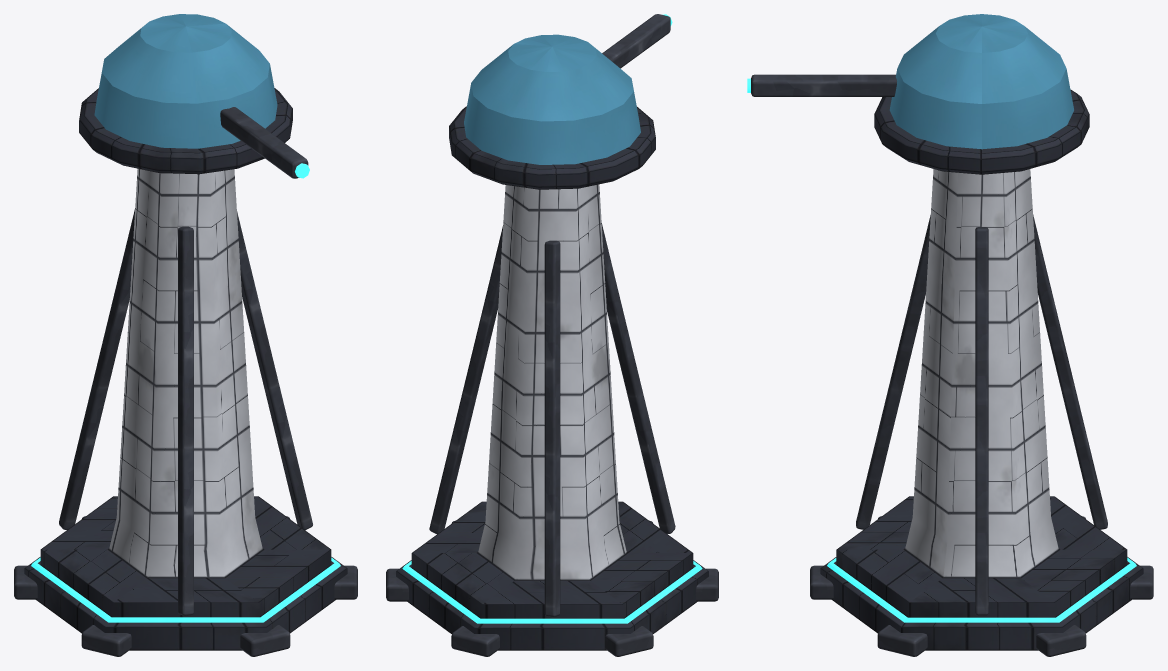
Rendered from sf_eyrie.glb.
The picture shows the model from 3 angles, left to right: view 1: azimuth 30°, elevation 25°; view 2: azimuth 150°, elevation 25°; view 3: azimuth 270°, elevation 25°; orthographic projection. The views are drawn at different scales.
Parts seen in each view (by area): view 1: Base, Turret; view 2: Base, Turret; view 3: Base, Turret.
Boxes of the visible parts, <box> form: Base: <box>14,88,357,656</box>; Turret: <box>94,14,309,178</box>; Base: <box>386,106,718,656</box>; Turret: <box>464,14,672,164</box>; Base: <box>810,89,1153,656</box>; Turret: <box>747,14,1073,149</box>.
Size of the model in its own units: 0.8255 by 1.62 by 1.06.
Materials: 5 (5 with a texture image).
